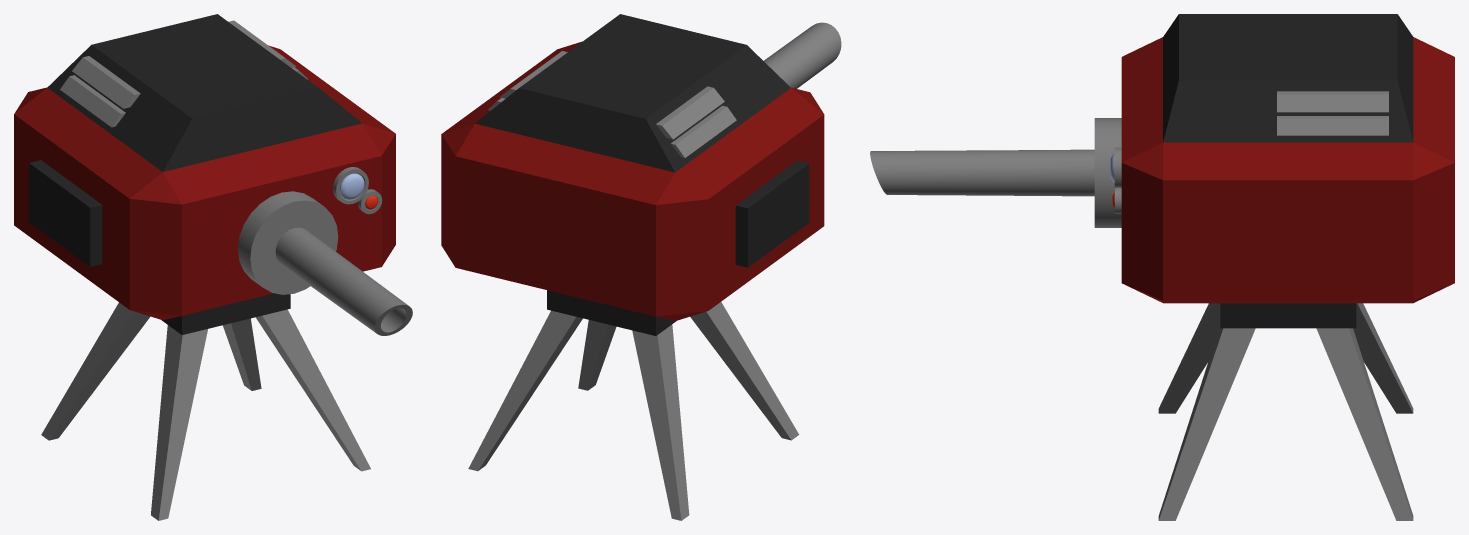
File: turret.fbx
3 views of the same model, side by side, from view 1: azimuth 30°, elevation 25°; view 2: azimuth 150°, elevation 25°; view 3: azimuth 270°, elevation 25° (orthographic). The views are drawn at different scales.
Visible parts, largest first — view 1: Turret; view 2: Turret; view 3: Turret.
Part boxes in pixels (x1,y1,x2,y2): Turret: (14,14,412,520); Turret: (441,14,841,520); Turret: (870,14,1454,520).
Bounding box in the file's own units: 36.15 × 60.67 × 47.76.
